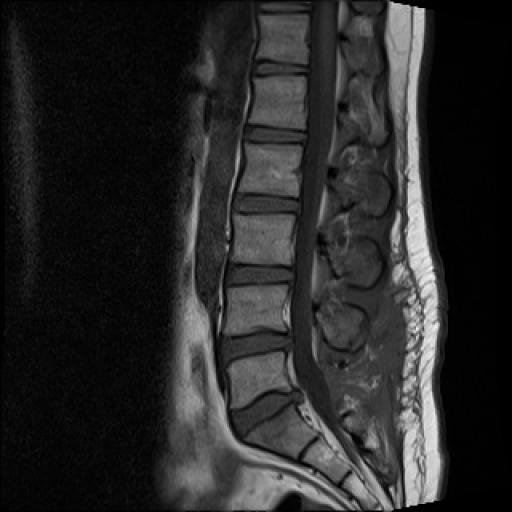L1: (249, 76, 306, 130)
L2: (238, 143, 302, 198)
L3: (232, 215, 294, 264)
L4: (223, 286, 289, 336)
L5: (228, 351, 291, 408)
S1: (245, 402, 317, 460)
